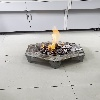fire: (41, 25, 64, 55)
